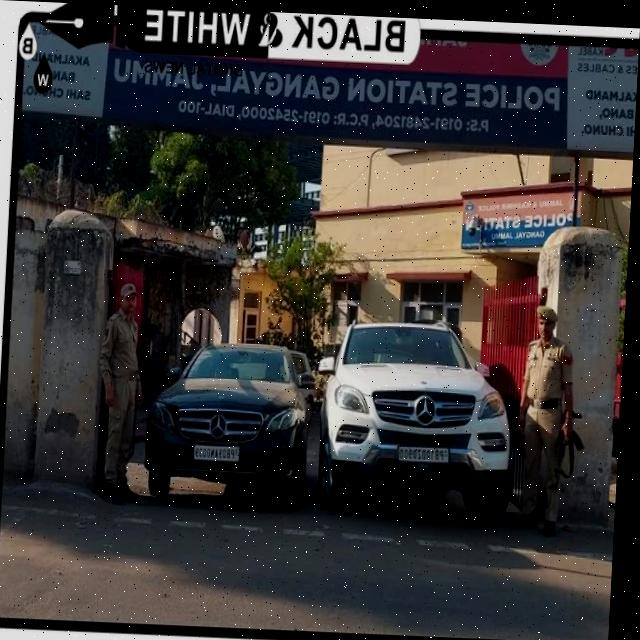plate: (399, 438, 460, 462), (195, 438, 248, 463)
